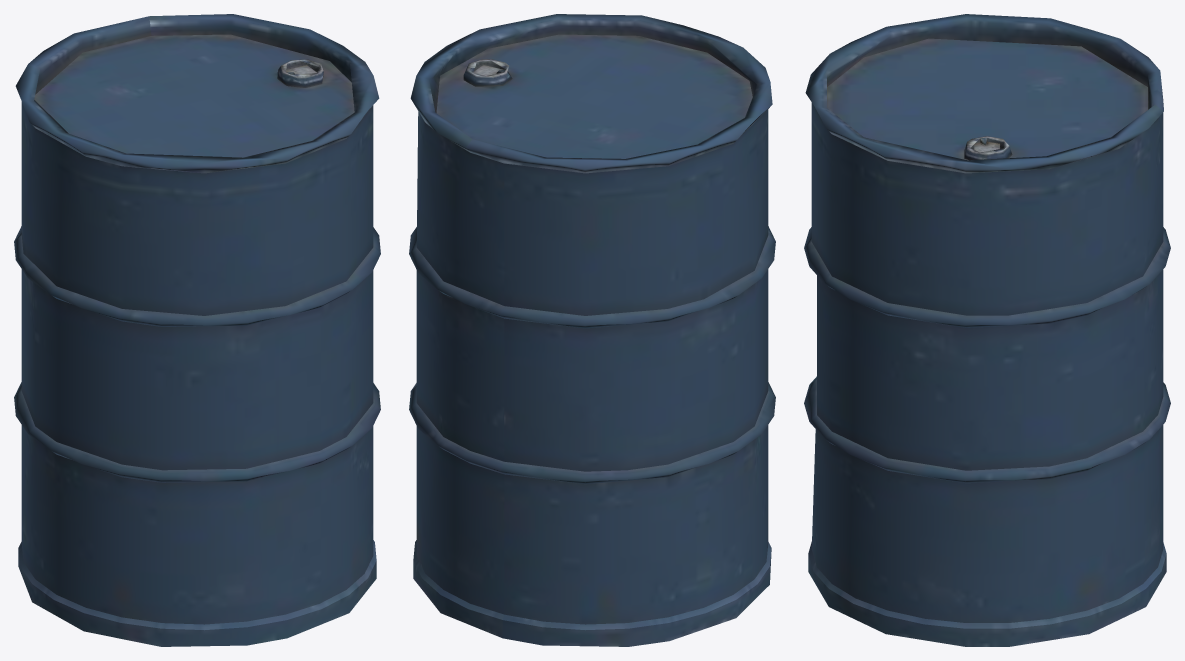
File: barrel-low.glb
The picture shows the model from 3 angles, left to right: view 1: azimuth 30°, elevation 25°; view 2: azimuth 150°, elevation 25°; view 3: azimuth 270°, elevation 25°; orthographic projection.
Parts seen in each view (by area): view 1: barrel_03; view 2: barrel_03; view 3: barrel_03.
Boxes of the visible parts, box(x1,y1,x2,y2) form: barrel_03: box(14, 14, 380, 646); barrel_03: box(409, 14, 775, 646); barrel_03: box(804, 14, 1170, 646).
Bounding box in the file's own units: 0.6339 × 0.9305 × 0.6386.
1 material, 1 textured.
